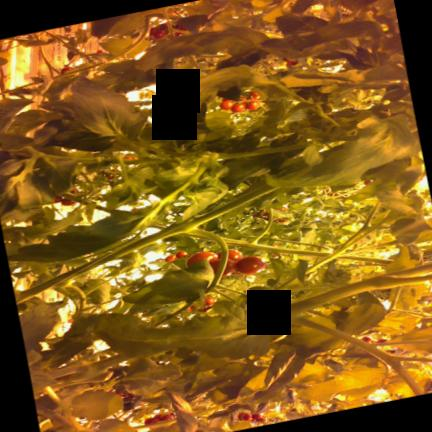MainStem: (16, 184, 277, 304), (272, 264, 432, 322), (222, 237, 330, 256)
tomato: (236, 256, 266, 275), (210, 259, 236, 278), (186, 252, 217, 266), (218, 249, 242, 262), (246, 100, 260, 110), (220, 99, 233, 109), (231, 104, 245, 112), (61, 199, 75, 206), (175, 251, 188, 258), (205, 297, 215, 306), (164, 255, 176, 262)
